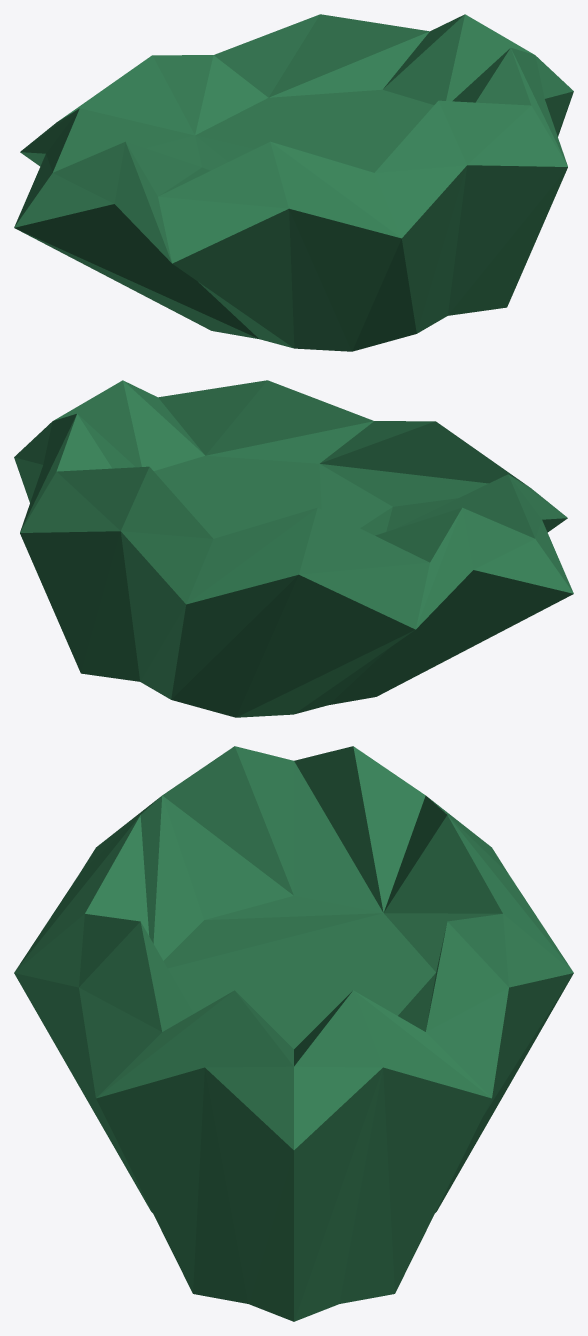
Rendered from Asian_Prop_Vegetation_Tree_Modular_Juniper_Needle_01.FBX.
3 views of the same model, one above another, from view 1: azimuth 30°, elevation 25°; view 2: azimuth 150°, elevation 25°; view 3: azimuth 270°, elevation 25° (orthographic). The views are drawn at different scales.
Visible parts, largest first — view 1: Asian_Prop_Vegetation_Tree_Modular_Juniper_Needle_01; view 2: Asian_Prop_Vegetation_Tree_Modular_Juniper_Needle_01; view 3: Asian_Prop_Vegetation_Tree_Modular_Juniper_Needle_01.
Boxes of the visible parts, <box> form: Asian_Prop_Vegetation_Tree_Modular_Juniper_Needle_01: <box>14,14,573,351</box>; Asian_Prop_Vegetation_Tree_Modular_Juniper_Needle_01: <box>14,380,573,717</box>; Asian_Prop_Vegetation_Tree_Modular_Juniper_Needle_01: <box>14,746,573,1321</box>.
Bounding box in the file's own units: 1076 × 453 × 718.
